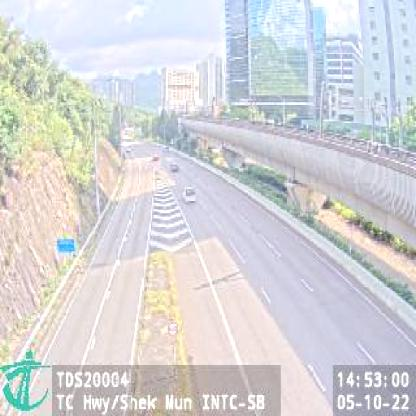Car: (182, 186, 196, 200)
